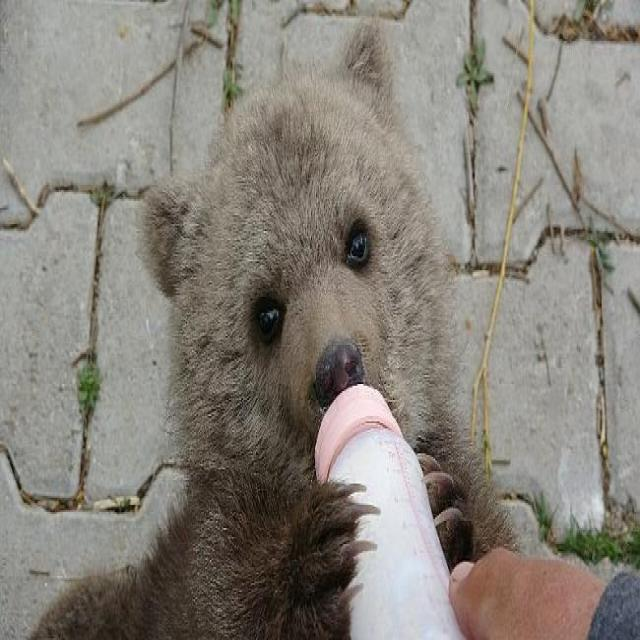Bear: (29, 36, 530, 640)
